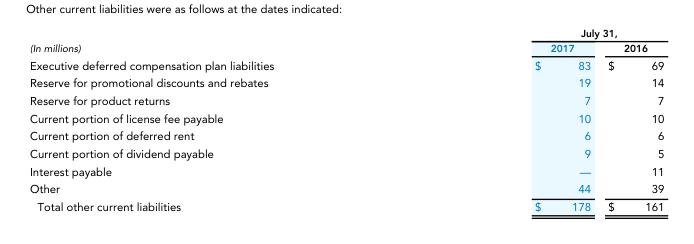table: (28, 28, 663, 212)
table column: (28, 28, 403, 212), (403, 28, 598, 212), (598, 28, 663, 212)
table column header: (28, 28, 663, 56)
table row: (28, 56, 663, 74), (28, 74, 663, 92), (28, 92, 663, 110), (28, 127, 663, 145), (28, 145, 663, 163), (28, 180, 663, 198), (28, 110, 663, 127), (28, 163, 663, 180), (28, 41, 663, 56), (28, 198, 663, 212), (28, 28, 663, 41)
table spanning cell: (28, 28, 403, 56), (403, 28, 663, 41)
